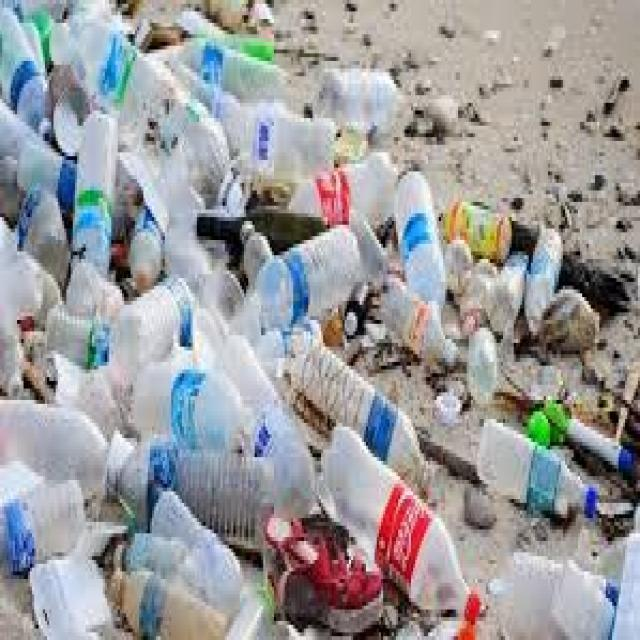Plastic: (319, 422, 483, 627), (291, 334, 440, 496), (104, 442, 277, 557), (477, 416, 596, 528), (129, 348, 252, 454), (256, 222, 366, 337), (396, 162, 448, 320)
